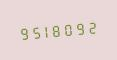eight: (53, 20, 64, 39)
five: (29, 22, 40, 41)
nine: (17, 23, 28, 42), (77, 18, 88, 37)
one: (41, 21, 52, 40)
two: (89, 17, 100, 36)
zero: (65, 19, 76, 38)
